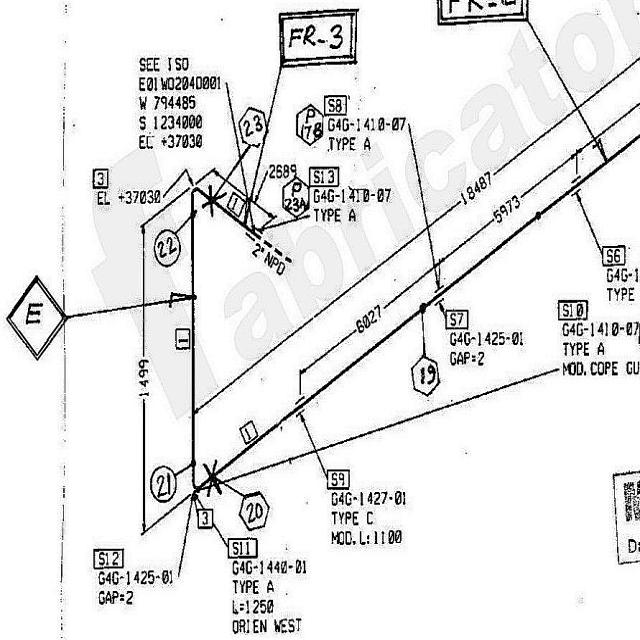Item number: (555, 296, 592, 324), (226, 534, 261, 561), (91, 545, 126, 571), (237, 414, 262, 449), (600, 240, 629, 270), (306, 165, 342, 189), (443, 306, 473, 333), (325, 465, 352, 492), (322, 93, 349, 117), (173, 322, 192, 354), (91, 166, 111, 191), (194, 505, 214, 526)
Measrement: (194, 43, 639, 423), (299, 252, 440, 385), (438, 144, 577, 274), (209, 161, 302, 227), (137, 216, 151, 544)
Pipeline: (188, 123, 639, 508)
Symbol: (184, 176, 222, 228), (186, 457, 226, 501), (429, 280, 449, 310), (293, 393, 310, 427), (570, 172, 587, 202)
Weld number: (408, 352, 443, 402), (237, 101, 271, 152), (236, 489, 273, 533), (150, 225, 184, 272), (149, 463, 180, 508)
other: (131, 51, 224, 154), (227, 558, 314, 636), (560, 317, 640, 380), (326, 488, 414, 545), (312, 184, 399, 231), (323, 114, 422, 155), (93, 569, 180, 609), (445, 331, 526, 367), (94, 188, 167, 210)
